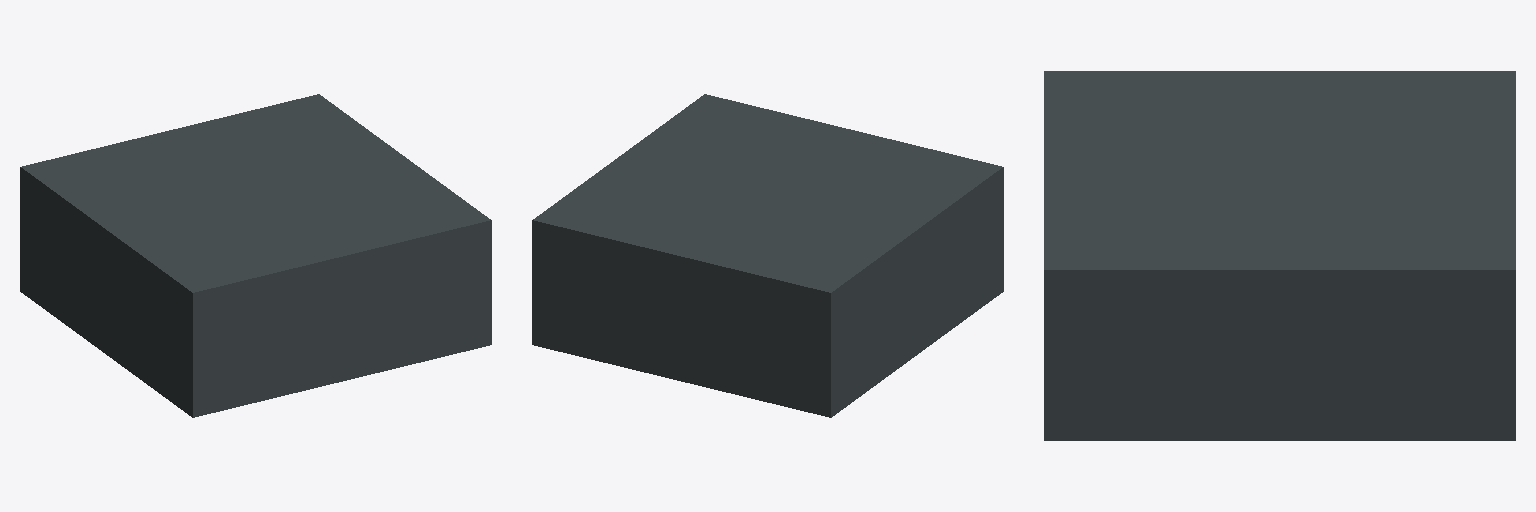
robot.urdf — 3070__dark_bluish_gray:
<?xml version="1.0"?>
<robot name="3070__dark_bluish_gray">
  <link name="3070__dark_bluish_gray">
    <inertial>
      <origin xyz="0.000000 0.000000 -0.001424" rpy="0 0 0"/>
      <mass value="0.000176"/>
      <inertia ixx="1.217594942e-09" ixy="-0.000000000e+00" ixz="1.413638742e-26" iyy="1.217594942e-09" iyz="-0.000000000e+00" izz="2.145124352e-09"/>
    </inertial>
    <visual>
      <geometry>
        <mesh filename="../meshes/visual/3070.obj" scale="1 1 1"/>
      </geometry>
      <material name="3070__dark_bluish_gray_color">
        <color rgba="0.320 0.350 0.360 1.000"/>
      </material>
    </visual>
    <collision>
      <geometry>
        <mesh filename="../meshes/collision/3070_hull.obj" scale="1 1 1"/>
      </geometry>
    </collision>
  </link>
</robot>

--- What the picture shows (computed from the rendered views, not written in the file) ---
3 views of the same robot in one strip: view 1: azimuth 30°, elevation 25°; view 2: azimuth 150°, elevation 25°; view 3: azimuth 270°, elevation 25° (orthographic).
Robot: 3070__dark_bluish_gray — 1 links, 0 joints (none); root link 3070__dark_bluish_gray; default pose: every joint at zero.
Links seen in each view (by area): view 1: 3070__dark_bluish_gray; view 2: 3070__dark_bluish_gray; view 3: 3070__dark_bluish_gray.
Boxes of the visible links, x1,y1,x2,y2 form: 3070__dark_bluish_gray: [20, 94, 491, 417]; 3070__dark_bluish_gray: [532, 94, 1003, 417]; 3070__dark_bluish_gray: [1044, 71, 1515, 440].
Size in the robot's own frame: 0.008 by 0.008 by 0.0032 metres.
1 mesh visuals loaded from 1 distinct referenced files (1 OBJ).
